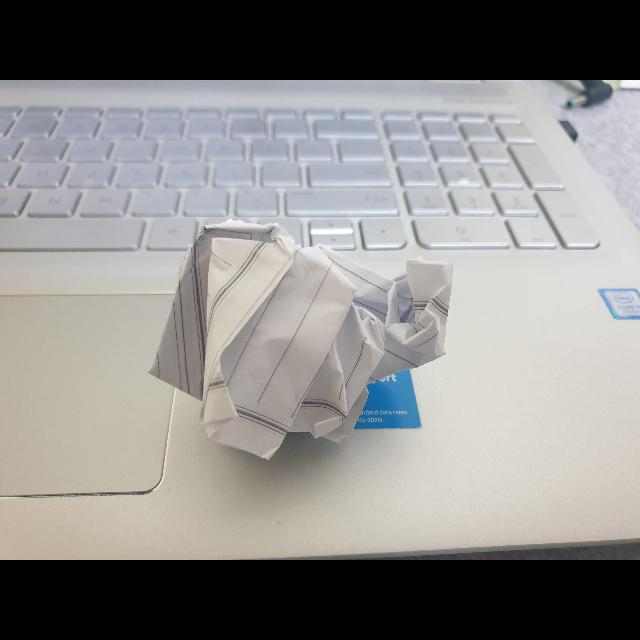scrap_paper: (146, 213, 458, 465)
